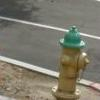Hydrant: (50, 20, 91, 100)
